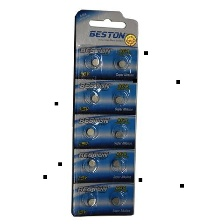book: (112, 128, 126, 141), (84, 195, 97, 209), (112, 94, 125, 107), (110, 157, 122, 170), (116, 59, 129, 70), (89, 56, 100, 69), (89, 92, 100, 104), (85, 127, 97, 138), (86, 158, 98, 169), (110, 197, 121, 208)
